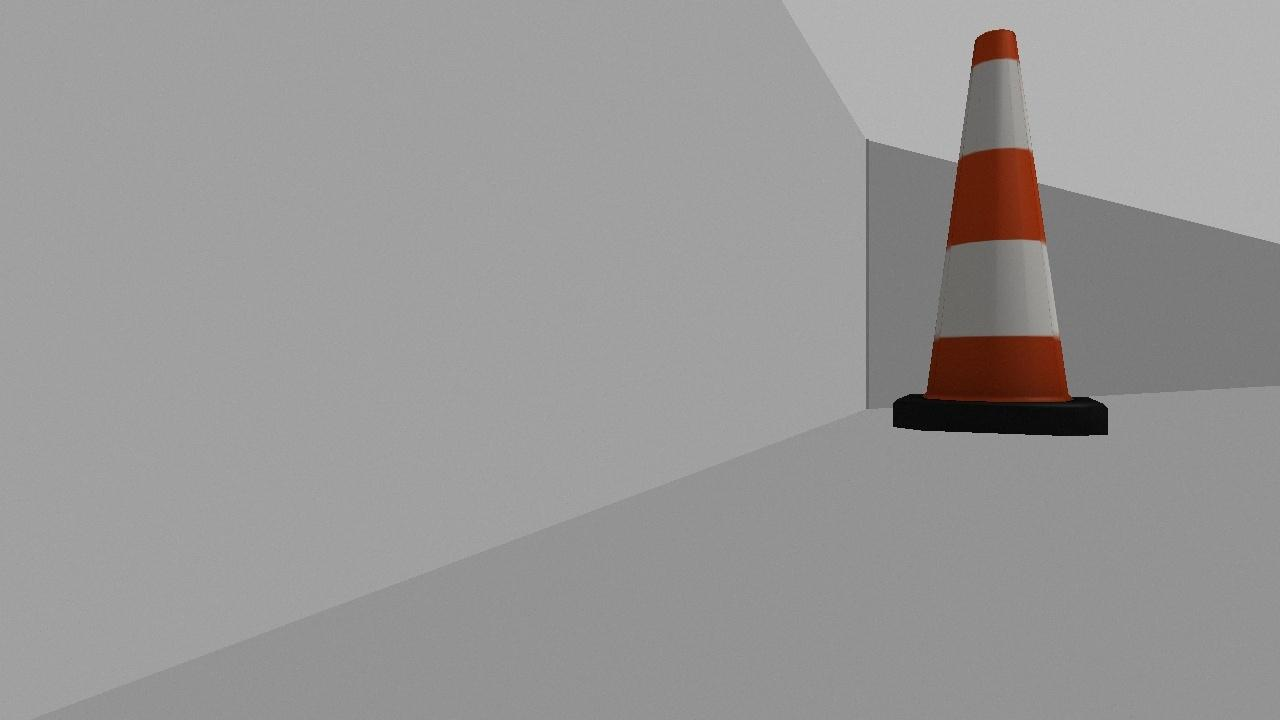cone_barrel: (880, 23, 1120, 460)
